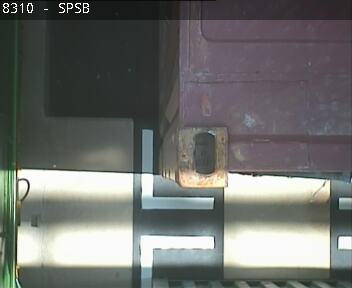groundmarker_1: (139, 127, 215, 287)
